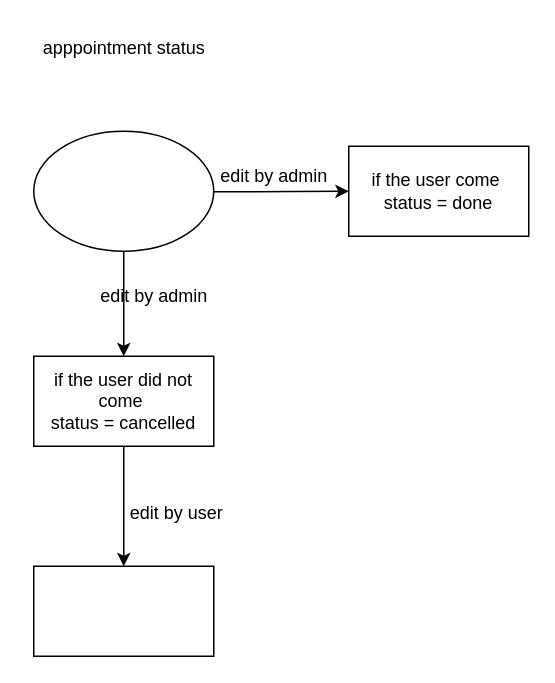
This 555x683 diagram has some shape labels left out. Each missing label, with the centre of its shape:
"appointment booked status = pending" goes at point (123, 190).
"if the user rescheduled status = rescheduled pending" goes at point (123, 610).
